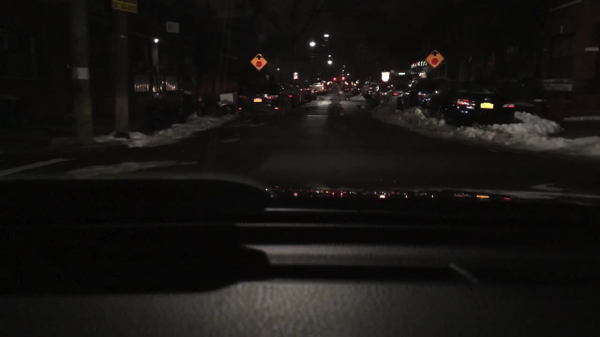car: (420, 79, 515, 125), (236, 83, 291, 119), (396, 75, 450, 108), (377, 86, 406, 103), (290, 84, 305, 105), (360, 82, 381, 97), (313, 81, 327, 93), (303, 87, 317, 99), (353, 86, 361, 95), (344, 87, 354, 93)
traffic light: (333, 77, 336, 82), (342, 77, 344, 83)
traffic sign: (113, 2, 138, 15), (426, 49, 444, 67), (250, 53, 266, 70), (381, 72, 389, 82)
